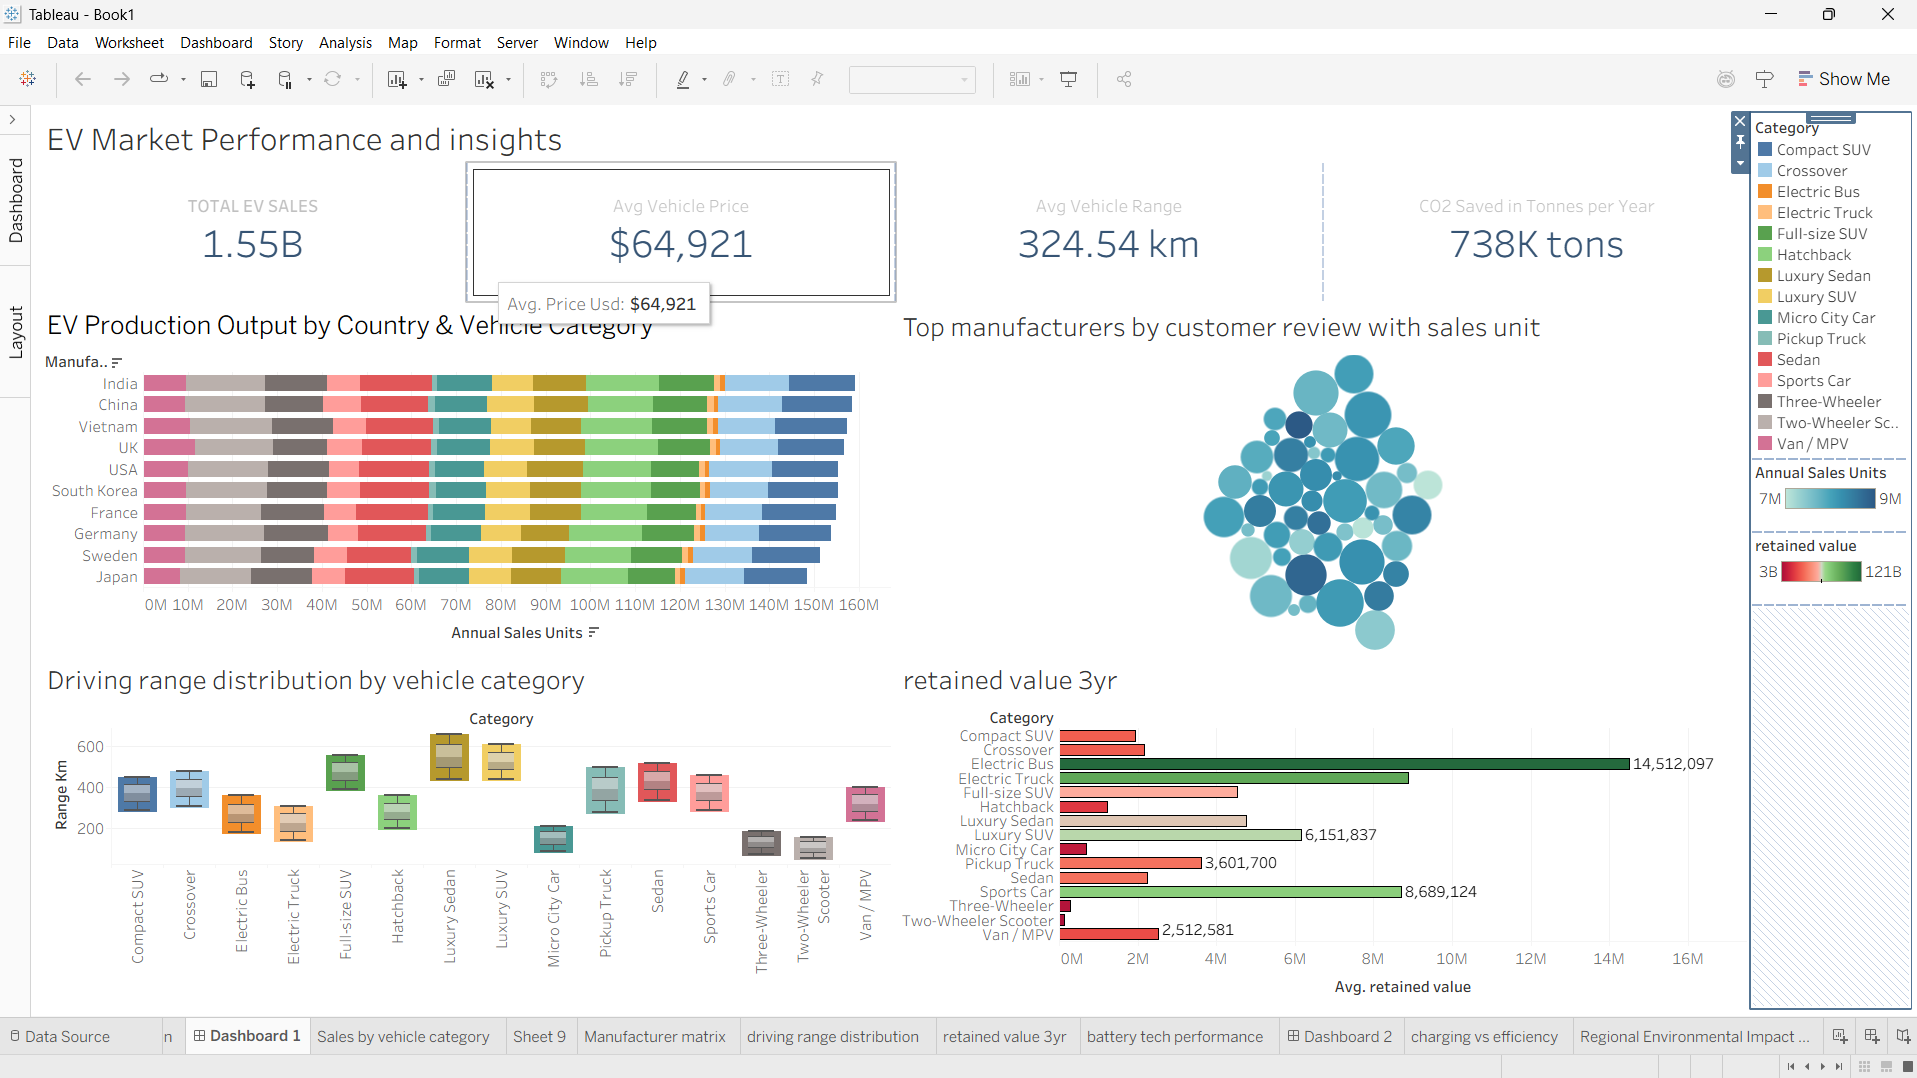

This screenshot's page, from the dashboard's own definition file:
{"tool":"tableau","page":{"name":"Dashboard 1","canvas":[1000,1000],"units":"permille","ordinal":0},"visuals":[{"type":"title","box":[4.2,8.8,906.8,54.9]},{"type":"legend","title":"Sheet 9","param":"[federated.05ferdy11ah9fs1fugvlk0oqurv5].[none:category:nk]","box":[911,8.8,84.8,378.7]},{"type":"worksheet","title":"KPI_Total_Sales","mark":"Text","box":[4.2,63.7,226.6,151.5]},{"type":"worksheet","title":"KPI_Avg_Price","mark":"Text","box":[230.8,63.7,226.7,151.5]},{"type":"worksheet","title":"KPI_Avg_Range","mark":"Text","box":[457.6,63.7,226.7,151.5]},{"type":"worksheet","title":"KPI_CO2_Saved","mark":"Text","box":[684.3,63.7,226.8,151.5]},{"type":"worksheet","title":"Sheet 9","mark":"Automatic","rows":["manufacturing_country"],"cols":["annual_sales_units"],"box":[4.2,215.1,453.3,388]},{"type":"worksheet","title":"Manufacturer matrix","mark":"Circle","box":[457.6,215.1,453.4,388]},{"type":"legend","title":"Manufacturer matrix","param":"[federated.05ferdy11ah9fs1fugvlk0oqurv5].[sum:annual_sales_units:qk]","box":[911,387.5,84.8,80.1]},{"type":"legend","title":"retained value 3yr","param":"[federated.05ferdy11ah9fs1fugvlk0oqurv5].[sum:Calculation_0257892270247943:qk]","box":[911,467.6,84.8,80.1]},{"type":"worksheet","title":"driving range distribution","mark":"Automatic","rows":["range_km"],"cols":["category"],"box":[4.2,603.2,453.3,388.1]},{"type":"worksheet","title":"retained value 3yr","mark":"Automatic","rows":["category"],"cols":["Calculation_0257892270247943"],"box":[457.6,603.2,453.4,388.1]}]}

Visuals, with their boxes on the dashboard's canvas, which has no fixed pixel size, in thousandths of its width and height (x1, y1, x2, y2). These are canvas units, not pixel positions in the 1917x1078 screenshot, which may show the page scaled, cropped or inside an application window:
title: 4,9,911,64
"Sheet 9" legend: 911,9,996,388
"KPI_Total_Sales" worksheet (Text marks): 4,64,231,215
"KPI_Avg_Price" worksheet (Text marks): 231,64,458,215
"KPI_Avg_Range" worksheet (Text marks): 458,64,684,215
"KPI_CO2_Saved" worksheet (Text marks): 684,64,911,215
"Sheet 9" worksheet: 4,215,458,603
"Manufacturer matrix" worksheet (Circle marks): 458,215,911,603
"Manufacturer matrix" legend: 911,388,996,468
"retained value 3yr" legend: 911,468,996,548
"driving range distribution" worksheet: 4,603,458,991
"retained value 3yr" worksheet: 458,603,911,991
